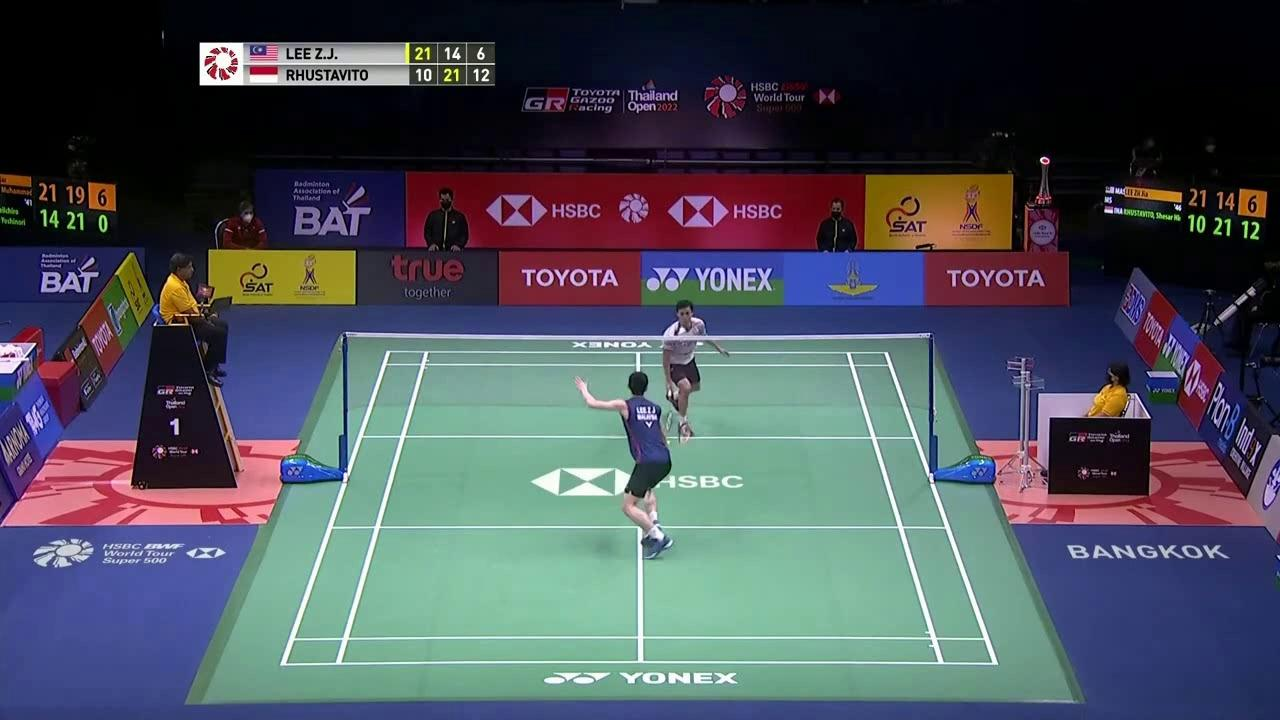racket: (665, 422, 696, 448), (665, 388, 675, 435)
shuttle: (678, 326, 686, 335)
